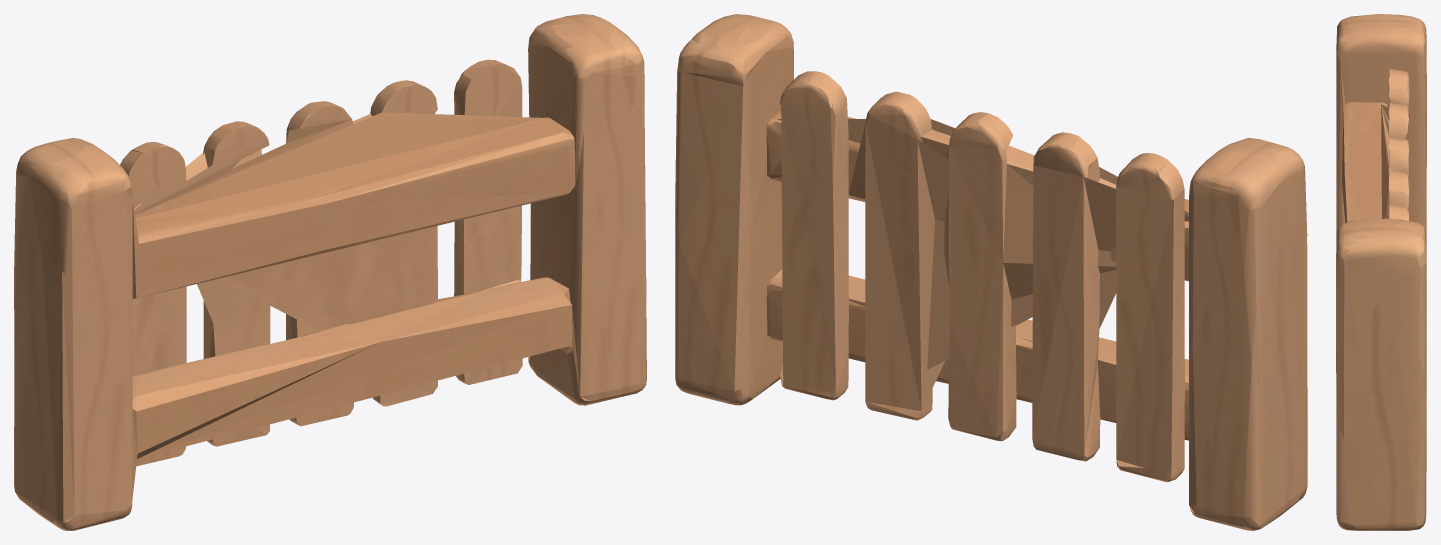
Rendered from fence.glb.
3 renders of one model, left to right at view 1: azimuth 30°, elevation 25°; view 2: azimuth 150°, elevation 25°; view 3: azimuth 270°, elevation 25°, orthographic. The views are drawn at different scales.
Parts seen in each view (by area): view 1: fence-basic-fit; view 2: fence-basic-fit; view 3: fence-basic-fit.
Part boxes in pixels (box(x1,y1,x2,y2)): fence-basic-fit: box(14, 14, 646, 530); fence-basic-fit: box(675, 14, 1307, 530); fence-basic-fit: box(1336, 14, 1426, 530).
Bounding box in the file's own units: 1.81 × 1.05 × 0.2947.
1 material, 1 textured.
